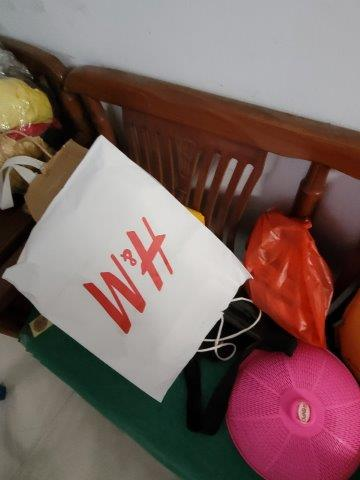plastik: (247, 211, 335, 347)
